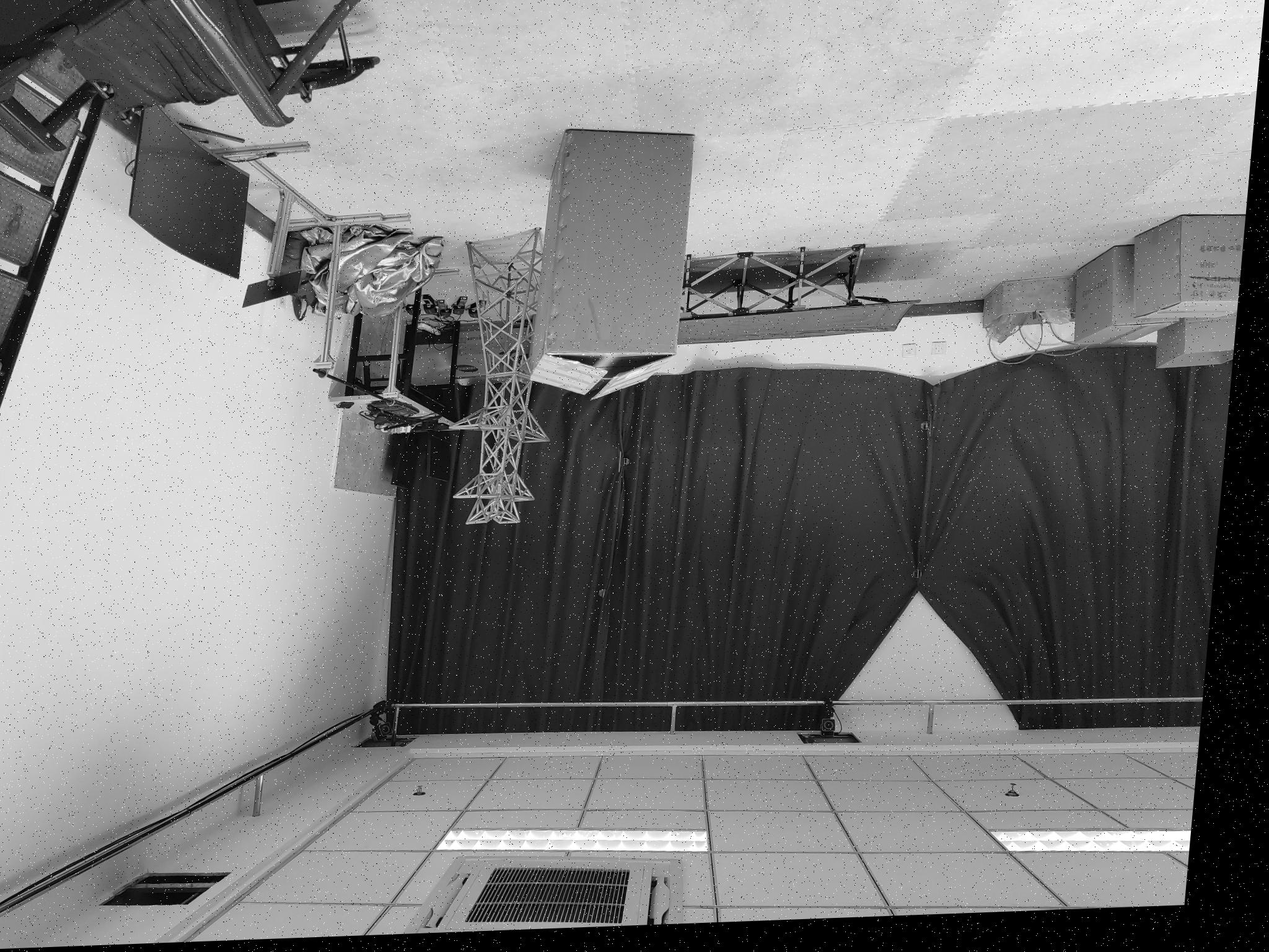tower: (437, 225, 572, 529)
